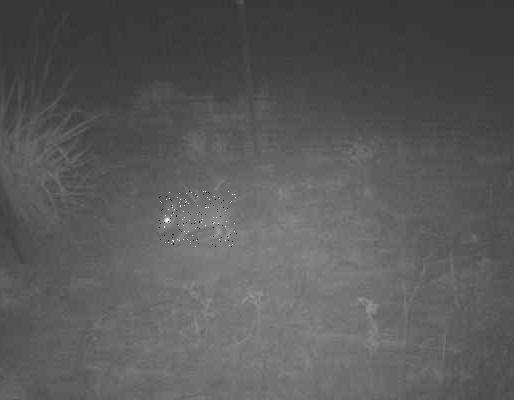Rabbit: (157, 191, 236, 247)
